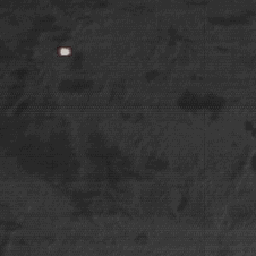Target: (58, 46, 71, 55)
